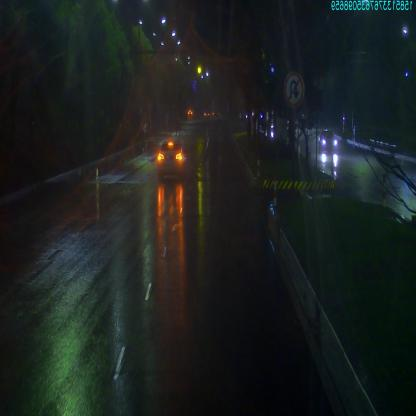traffic-light: (197, 65, 202, 76)
